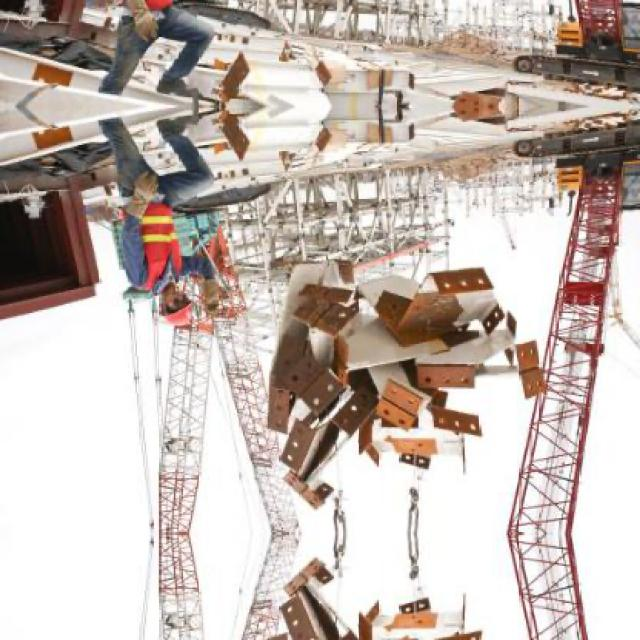con casco: (120, 248, 214, 342)
